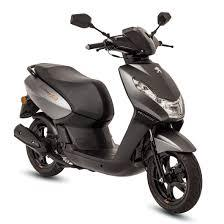motorcycle: (12, 9, 202, 215)
